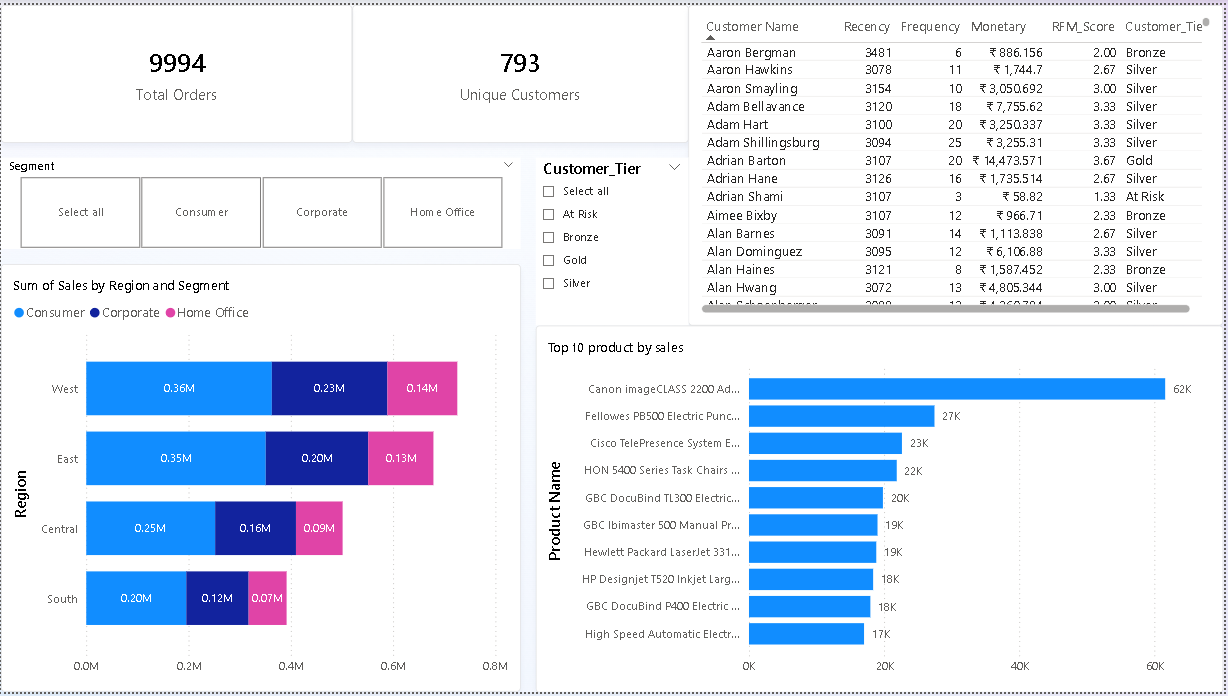

What the dashboard file says about the page in this screenshot:
{"tool":"powerbi","page":{"name":"main_dashboard","canvas":[1280,720],"ordinal":0},"visuals":[{"type":"card","fields":{"Values":["Orders.Unique Customers"]},"box":[368,0,352,144],"z":0},{"type":"card","fields":{"Values":["Orders.Total Orders"]},"box":[0,0,368,144],"z":1000},{"type":"tableEx","fields":{"Values":["Customer_RFM.Customer Name","Customer_RFM.Recency","Customer_RFM.Frequency","Customer_RFM.Monetary","Customer_RFM.RFM_Score","Customer_RFM.Customer_Tier"]},"box":[720,0,560,336],"z":2000},{"type":"slicer","fields":{"Values":["Customer_RFM.Customer_Tier"]},"box":[560,160,160,176],"z":3000},{"type":"slicer","fields":{"Values":["Customer_RFM.Segment"]},"box":[0,160,544,96],"z":4000},{"type":"barChart","fields":{"Category":["Orders.Region"],"Y":["Sum(Orders.Sales)"],"Series":["Orders.Segment"]},"box":[0,272,544,448],"z":6000},{"type":"barChart","title":"Top 10 product by sales","fields":{"Category":["Orders.Product Name"],"Y":["Sum(Orders.Sales)"]},"box":[560,336,720,384],"z":6001}]}

Visuals, with their boxes in screenshot pixels (x1, y1, x2, y2), scaled from the page's 1280x720 canvas onto the 1228x696 screenshot:
card - Orders.Unique Customers: 353,0,691,139
card - Orders.Total Orders: 0,0,353,139
tableEx - Customer_RFM.Customer Name x Customer_RFM.Recency: 691,0,1227,325
slicer - Customer_RFM.Customer_Tier: 537,155,691,325
slicer - Customer_RFM.Segment: 0,155,522,247
barChart - Orders.Region x Sum(Orders.Sales): 0,263,522,695
"Top 10 product by sales" barChart: 537,325,1227,695
